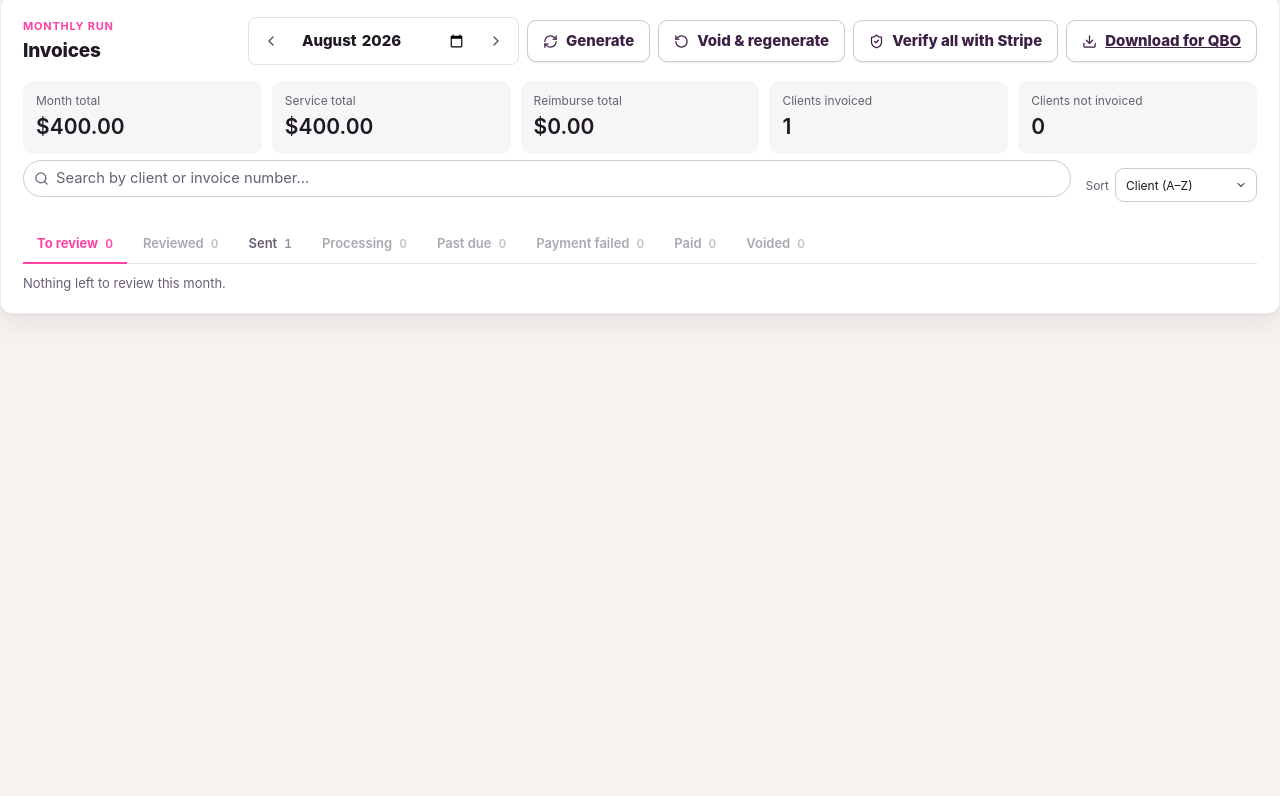
Test: the delivery badge in the month run › shows nothing at all when no delivery event has arrived
Click the tab "Sent 1": point(270, 245) [234,225,306,264]
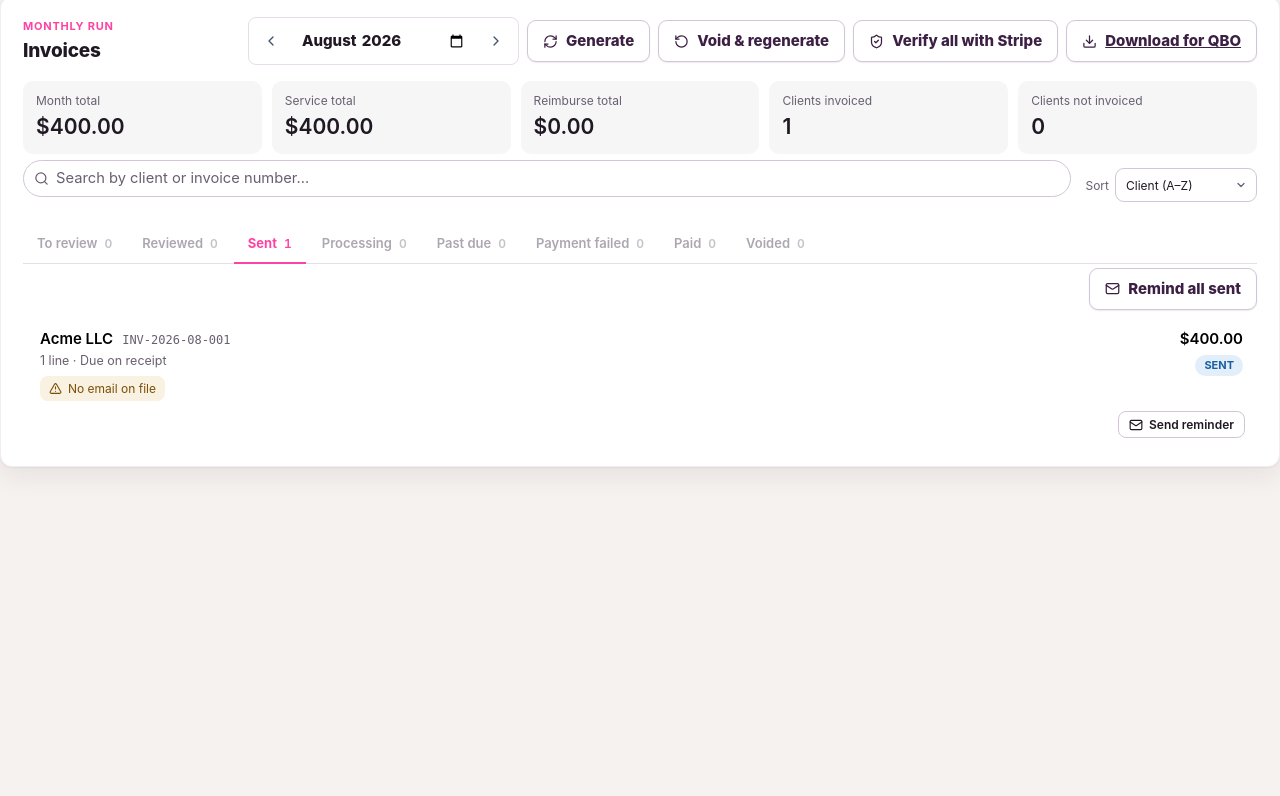
Click the text "INV-2026-08-001": point(176, 340) [122,332,231,349]
(page scrolled)
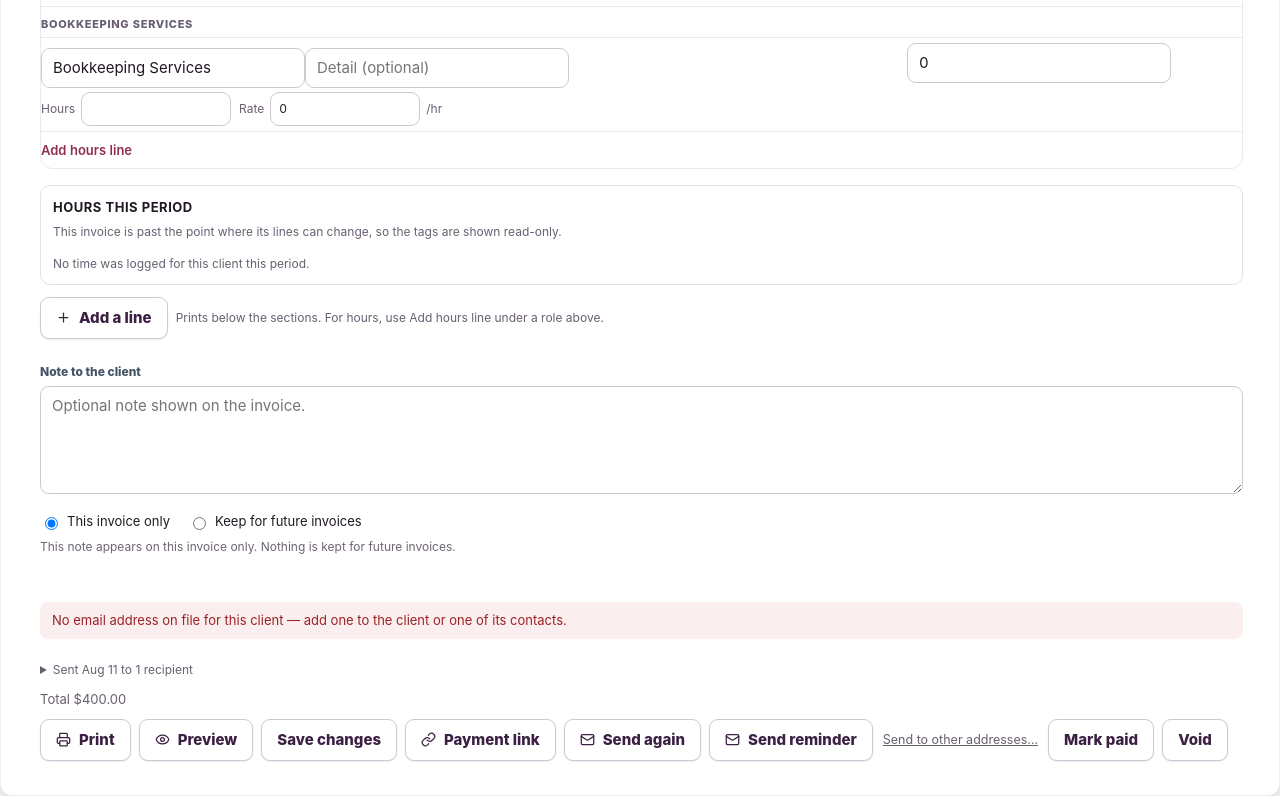
Now the heading "Sent Aug 11 to 1 recipient" is shown, box [53,662,193,677]
